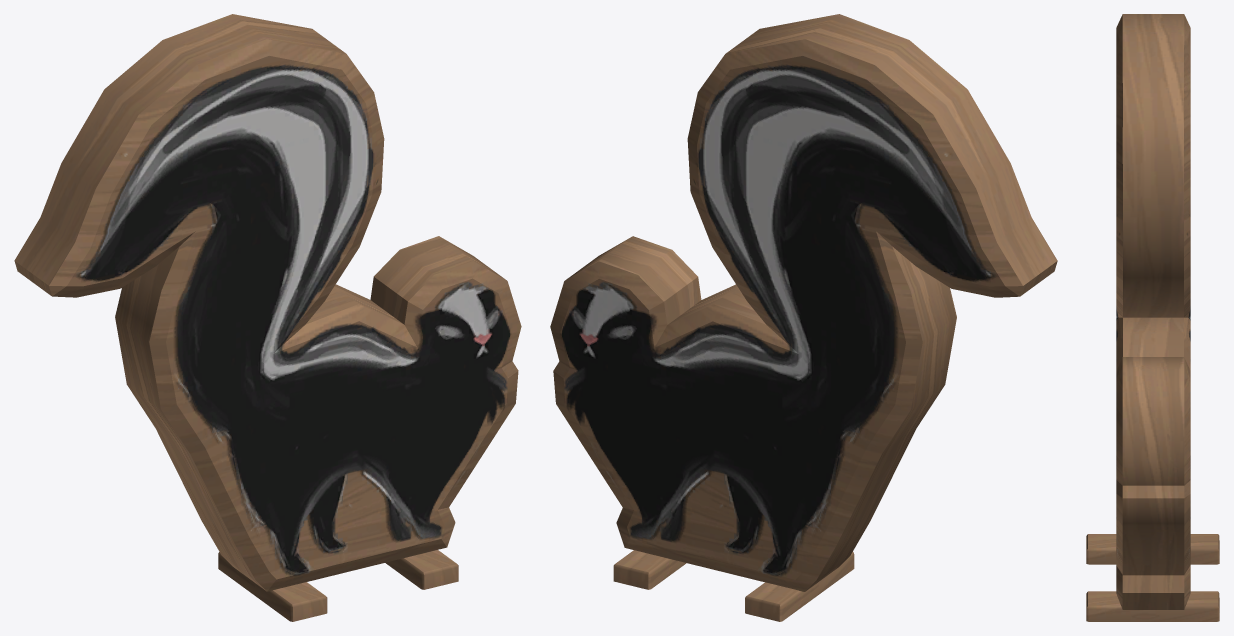
The model's file is skunk cutout.glb.
3 renders of one model, left to right at view 1: azimuth 30°, elevation 25°; view 2: azimuth 150°, elevation 25°; view 3: azimuth 270°, elevation 25°, orthographic. The views are drawn at different scales.
Parts seen in each view (by area): view 1: Standee_Skunk_LOD0; view 2: Standee_Skunk_LOD0; view 3: Standee_Skunk_LOD0.
Part boxes in pixels (x1,y1,x2,y2): Standee_Skunk_LOD0: (14, 14, 521, 621); Standee_Skunk_LOD0: (550, 14, 1057, 621); Standee_Skunk_LOD0: (1086, 14, 1219, 621).
Size of the model in its own units: 0.8046 by 0.9265 by 0.2191.
1 material, 1 textured.
